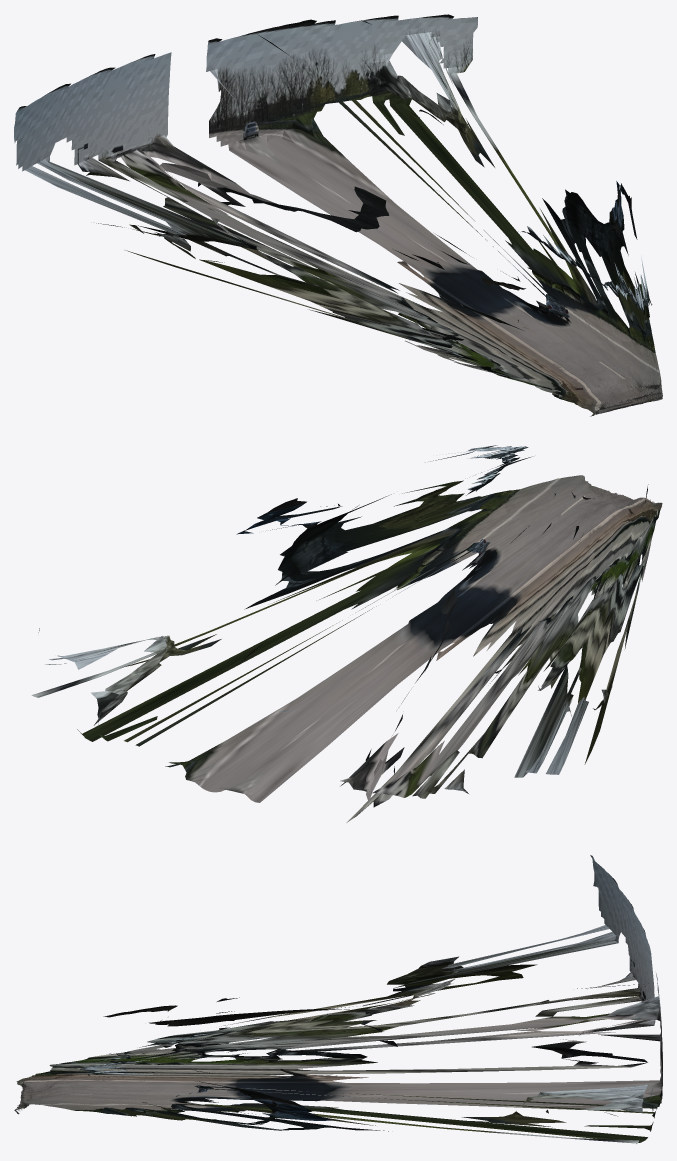
3 renders of one model, top to bottom at view 1: azimuth 30°, elevation 25°; view 2: azimuth 150°, elevation 25°; view 3: azimuth 270°, elevation 25°, orthographic. The views are drawn at different scales.
Parts seen in each view (by area): view 1: defaultobject; view 2: defaultobject; view 3: defaultobject.
Part boxes in pixels (x1,y1,x2,y2): defaultobject: [14, 14, 662, 416]; defaultobject: [31, 445, 662, 822]; defaultobject: [14, 855, 662, 1143].
Bounding box in the file's own units: 34.23 × 9.95 × 44.53.
Materials: 1 (1 with a texture image).
